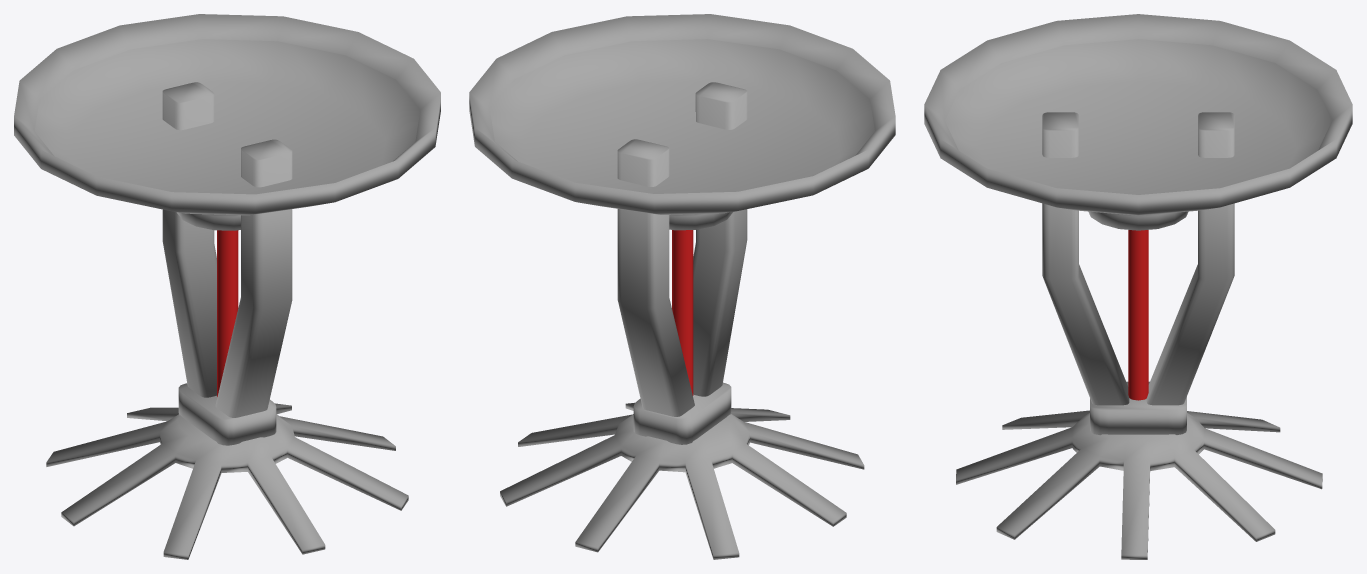
Rendered from Sprinkler_Head.fbx.
3 renders of one model, left to right at view 1: azimuth 30°, elevation 25°; view 2: azimuth 150°, elevation 25°; view 3: azimuth 270°, elevation 25°, orthographic.
Visible parts, largest first — view 1: Water Pipe; view 2: Water Pipe; view 3: Water Pipe.
Part boxes in pixels (box(x1,y1,x2,y2)): Water Pipe: box(14, 14, 440, 559); Water Pipe: box(469, 14, 895, 559); Water Pipe: box(924, 14, 1352, 559).
Bounding box in the file's own units: 21.14 × 20.56 × 21.14.
